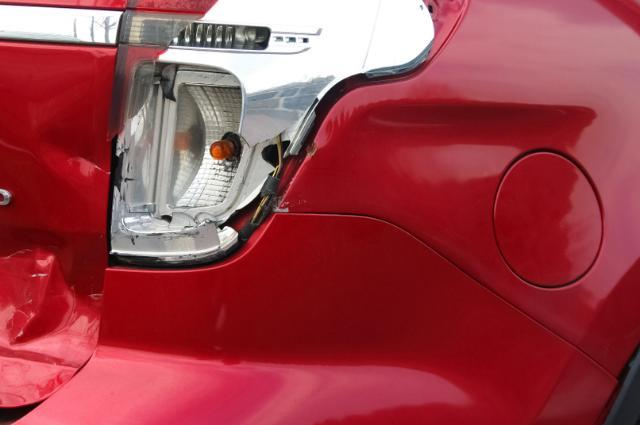Dickey: (0, 219, 105, 407)
Light: (118, 0, 356, 261)
